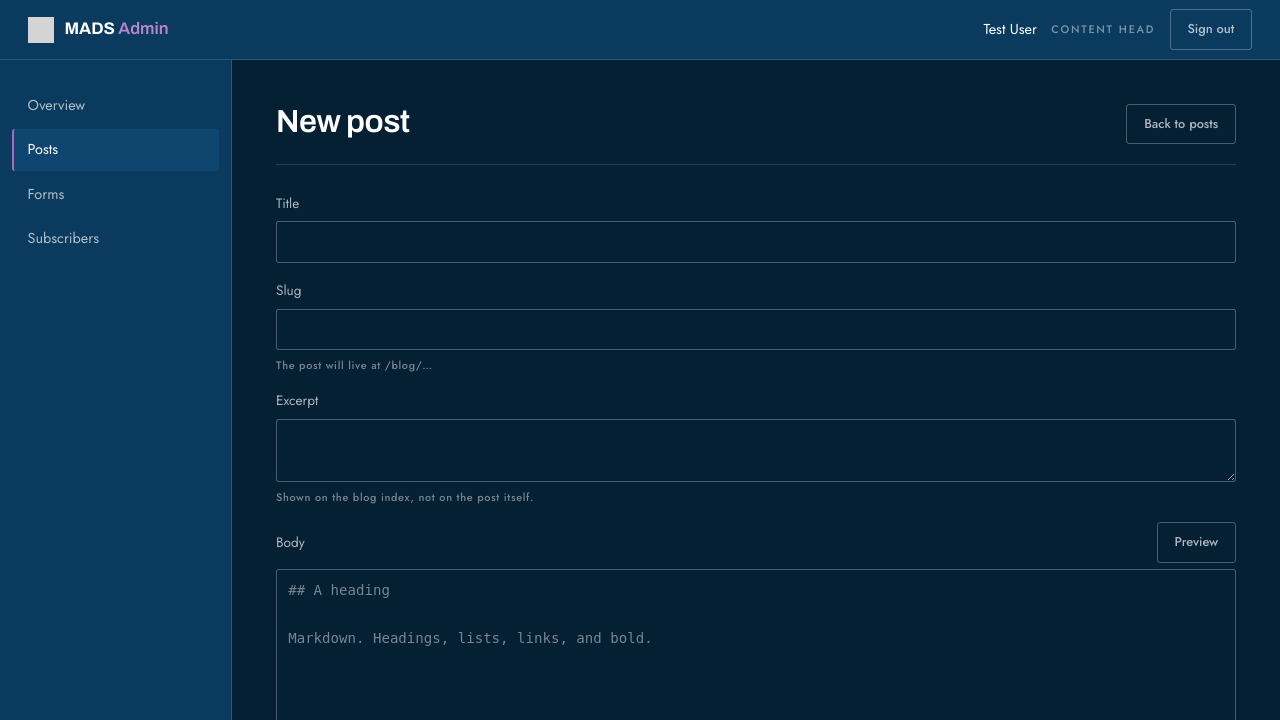
PostEditor › rejects a slug that is already taken
Type "Datathon 2026 recap" into the field labelled "Title" at (756, 242), box x1=276 y1=221 x2=1236 y2=263
(page scrolled)
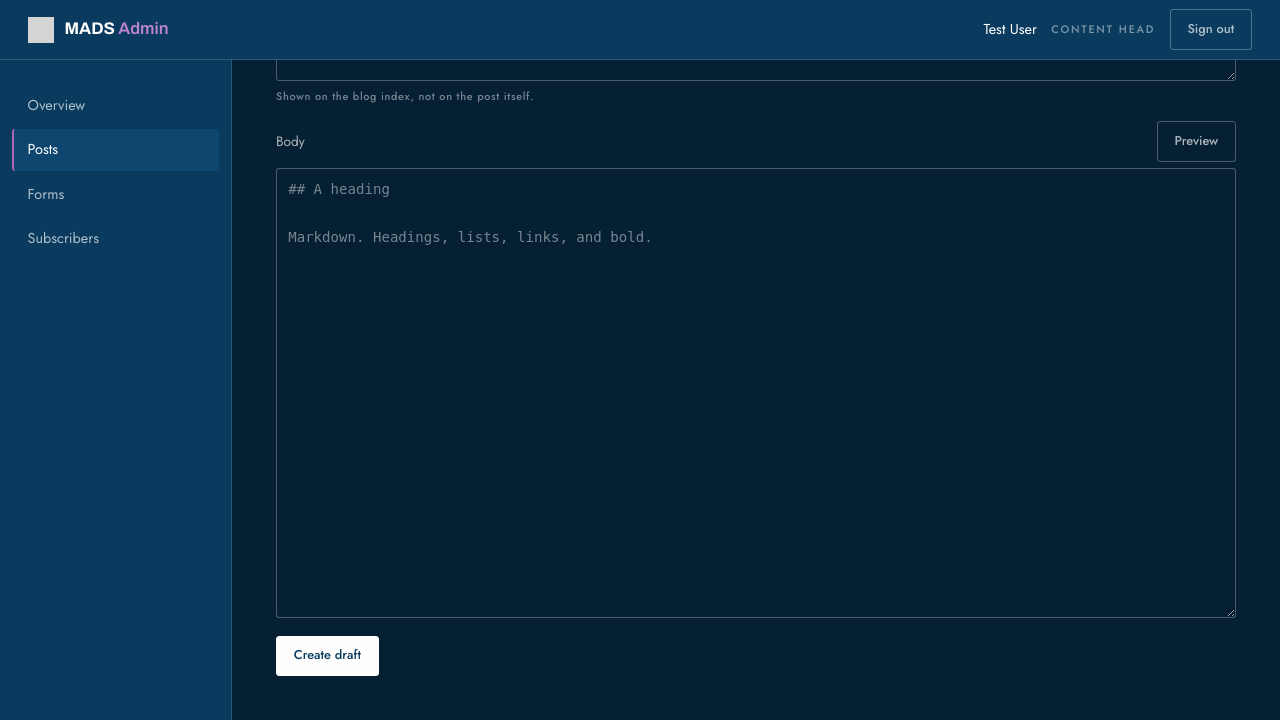
Click the button "Create draft" at (327, 656), box x1=276 y1=636 x2=379 y2=676
(page scrolled)
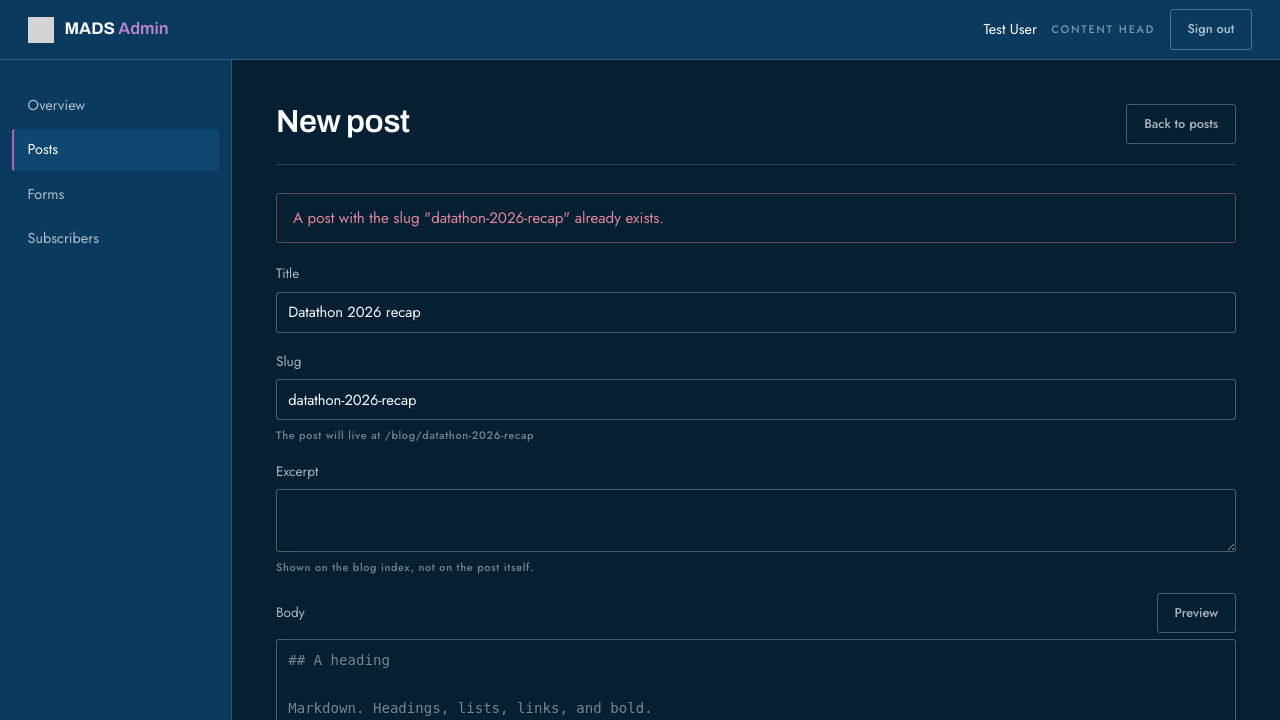
Result: the message shows "already exists" at x1=293 y1=207 x2=664 y2=229
